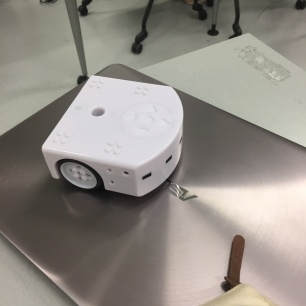thymio: (40, 73, 185, 196)
